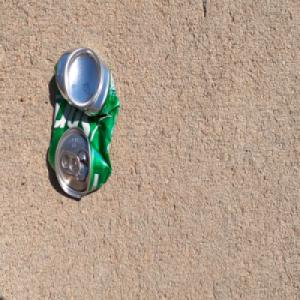SodaCan: (46, 44, 121, 201)
